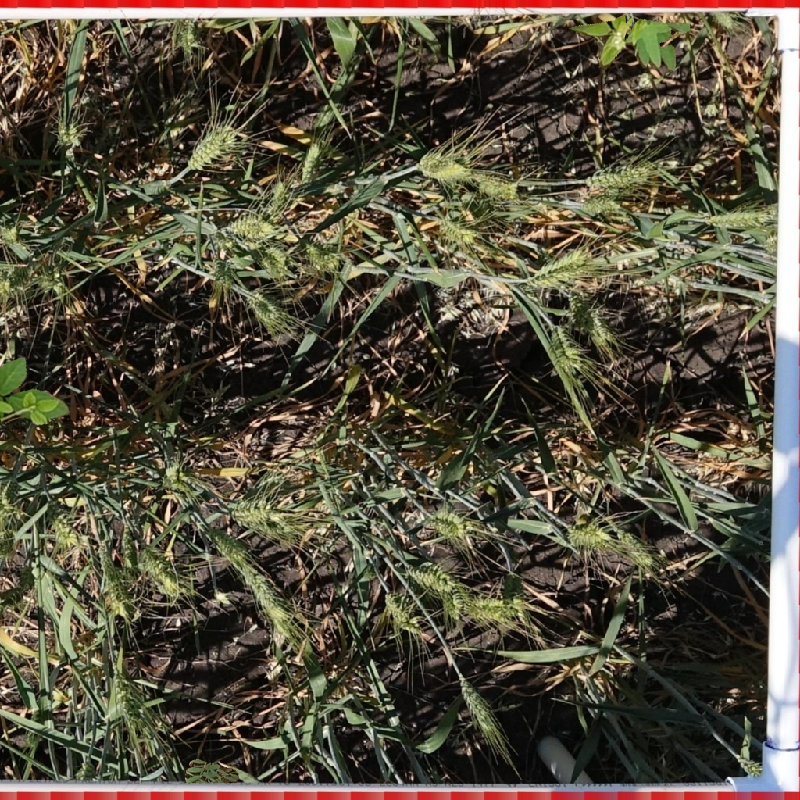spikelet: (105, 672, 158, 750), (184, 117, 241, 170), (457, 673, 501, 739), (527, 245, 593, 288), (228, 494, 293, 532), (567, 294, 616, 343), (137, 548, 184, 598), (242, 285, 291, 332), (244, 569, 289, 620), (546, 324, 587, 375), (585, 160, 654, 190), (414, 148, 471, 182), (221, 211, 275, 245), (461, 593, 521, 623), (404, 560, 458, 593), (429, 504, 472, 542), (617, 528, 656, 567), (383, 591, 420, 632), (708, 206, 770, 230), (435, 214, 479, 246), (473, 169, 519, 199), (565, 521, 612, 550), (296, 141, 327, 184), (164, 465, 208, 495), (209, 528, 248, 561), (304, 240, 343, 272), (264, 178, 292, 218), (257, 244, 290, 277), (49, 514, 81, 547), (735, 751, 767, 780), (580, 195, 620, 215), (205, 259, 235, 284), (55, 119, 82, 146)
weed: (560, 1, 685, 79), (1, 348, 72, 439), (184, 759, 239, 784)
